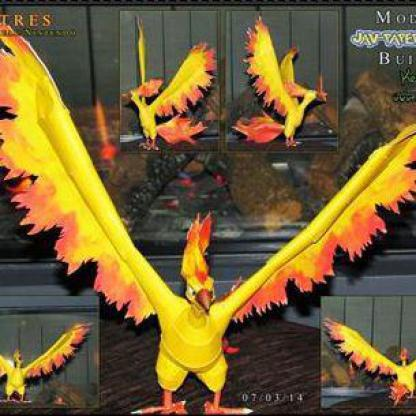Moltres: (23, 30, 416, 416)
